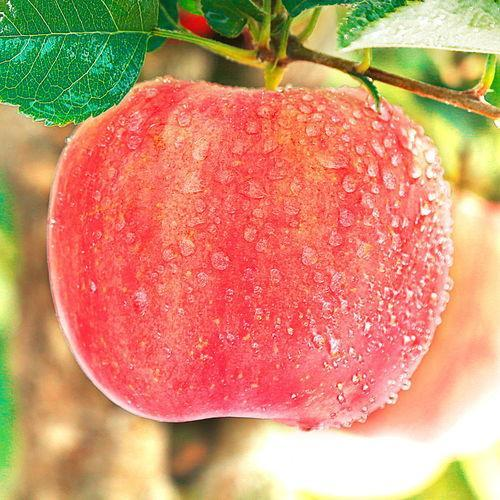apple: (45, 78, 454, 426)
